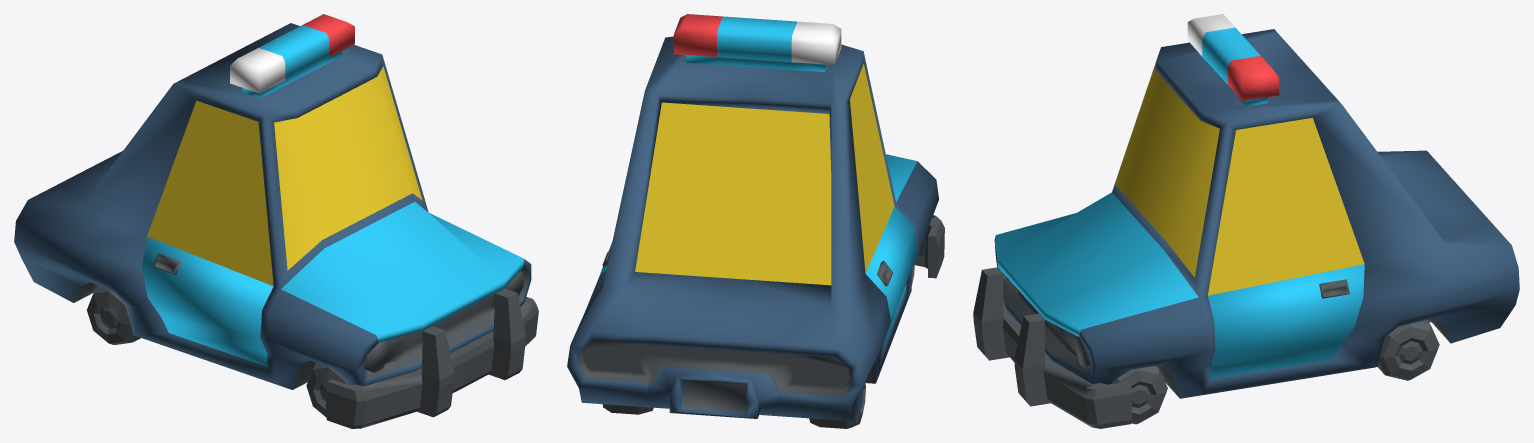
Rendered from ToyObject_139.fbx.
3 views of the same model, side by side, from view 1: azimuth 30°, elevation 25°; view 2: azimuth 150°, elevation 25°; view 3: azimuth 270°, elevation 25° (orthographic). The views are drawn at different scales.
Parts seen in each view (by area): view 1: object-1.055; view 2: object-1.055; view 3: object-1.055.
Part boxes in pixels (x1,y1,x2,y2): object-1.055: [14, 14, 538, 428]; object-1.055: [567, 14, 944, 428]; object-1.055: [973, 14, 1519, 428].
Bounding box in the file's own units: 0.1459 × 0.1168 × 0.1844.
